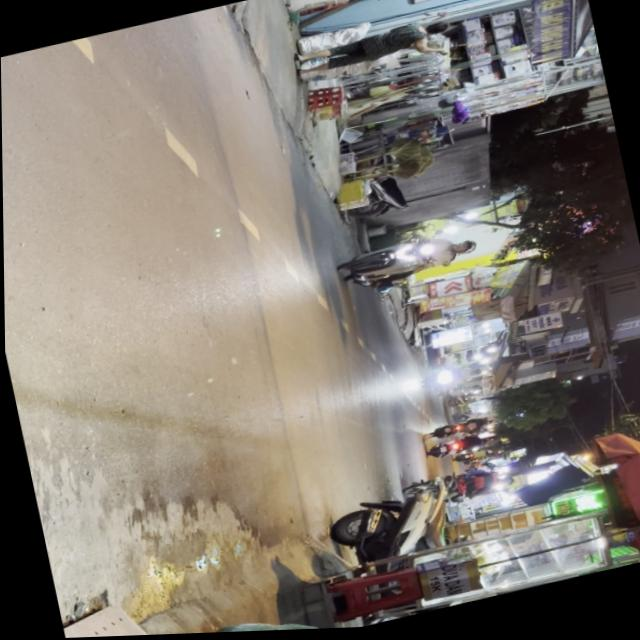helmet: (451, 238, 480, 257)
licenseplate: (333, 225, 483, 298)
